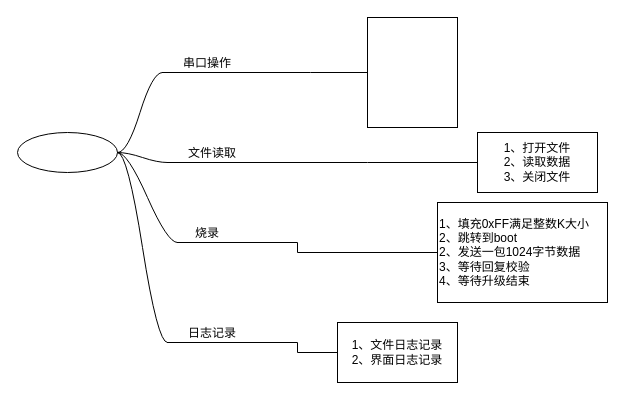
Image size: 625x400. Some labels were removed from this diagram. Here are the shapes that lost their labels. From the top down, the centre of each, then its label:
(412,72): 1、初始化 2、连接 3、断开 4、写数据 5、读数据 6、释放
(67,152): Central Idea
